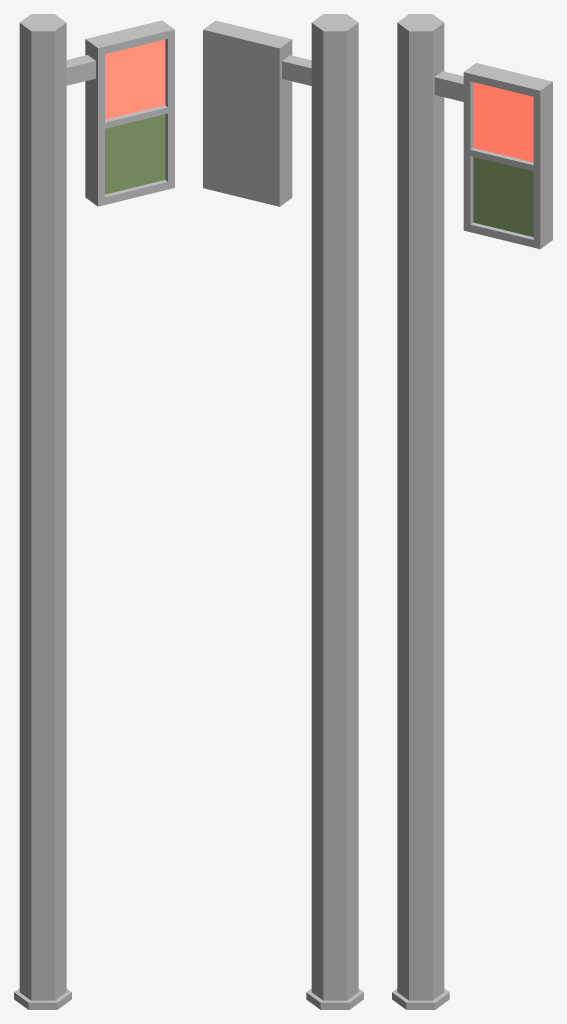
File: Semaforo1.fbx
3 views of the same model, side by side, from view 1: azimuth 30°, elevation 25°; view 2: azimuth 150°, elevation 25°; view 3: azimuth 330°, elevation 25° (orthographic).
Parts seen in each view (by area): view 1: light_red; view 2: light_red; view 3: light_red.
Boxes of the visible parts, box(x1,y1,x2,y2) form: light_red: box(14, 14, 174, 1009); light_red: box(203, 14, 363, 1009); light_red: box(392, 14, 552, 1009).
Bounding box in the file's own units: 75.66 × 479 × 25.7.
